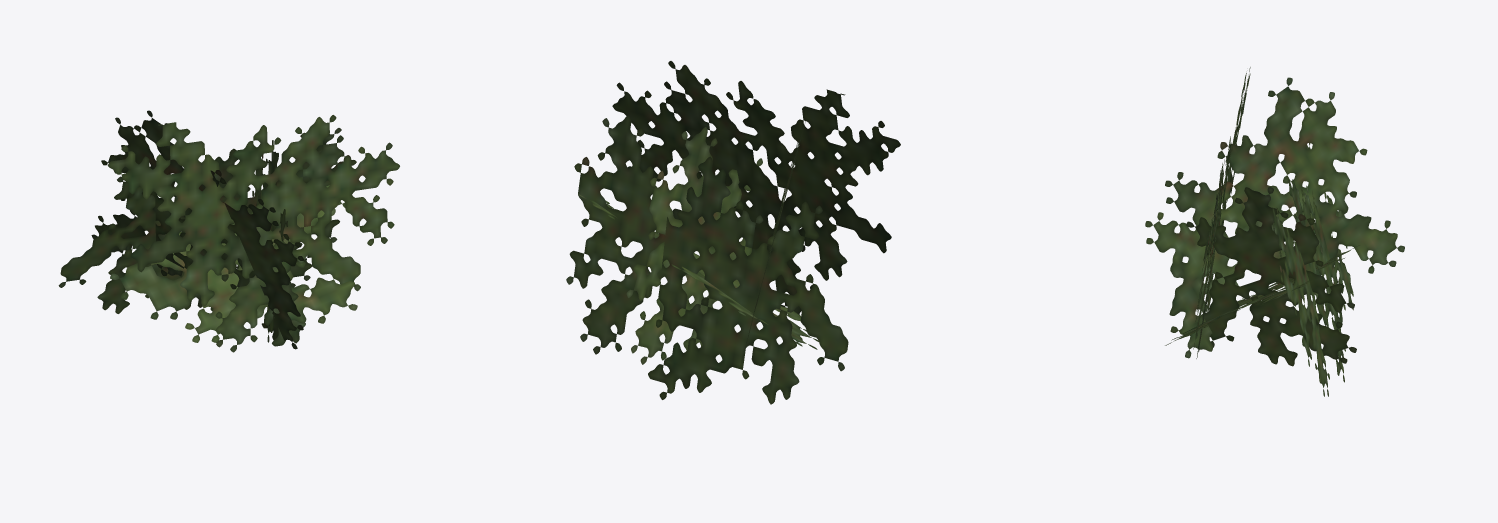
File: pine_leaves_dark_vertical_slab_3.obj
3 views of the same model, side by side, from view 1: azimuth 30°, elevation 25°; view 2: azimuth 150°, elevation 25°; view 3: azimuth 270°, elevation 25° (orthographic). The views are drawn at different scales.
Visible parts, largest first — view 1: plane; view 2: plane; view 3: plane.
Boxes of the visible parts, x1=… form: plane: x1=58, y1=110, x2=399, y2=352; plane: x1=566, y1=61, x2=900, y2=404; plane: x1=1145, y1=67, x2=1404, y2=396.
Bounding box in the file's own units: 1.81 × 1.98 × 2.13.
